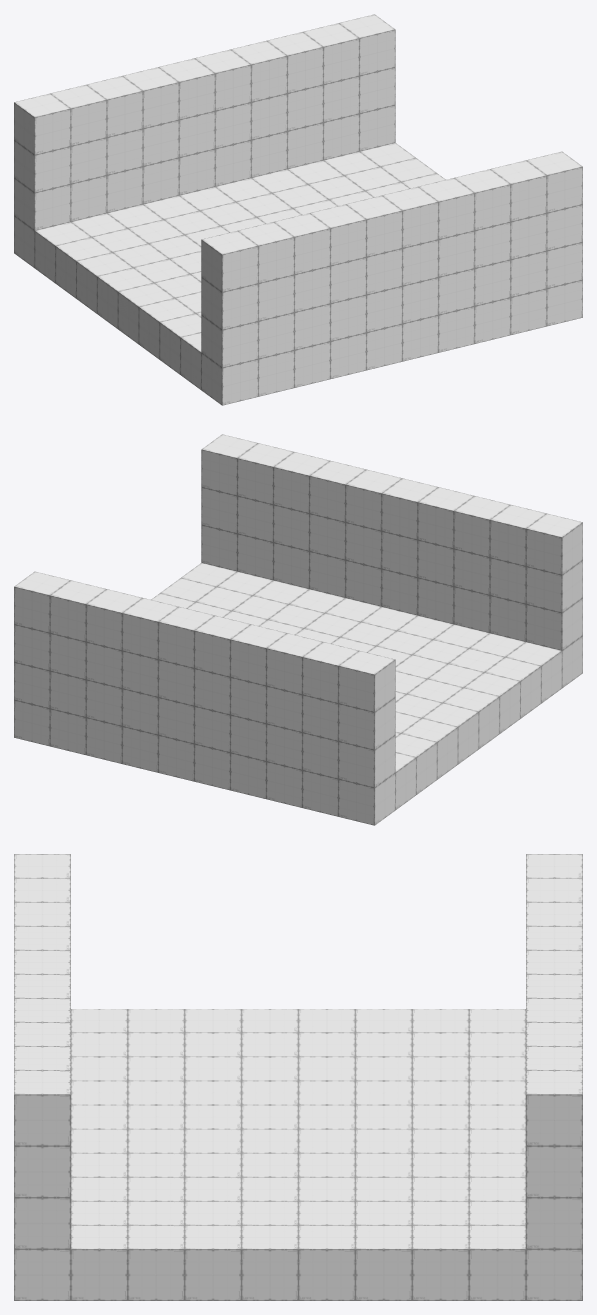
Rendered from ProB_Floor_2Walls_10x10.fbx.
3 renders of one model, top to bottom at view 1: azimuth 30°, elevation 25°; view 2: azimuth 150°, elevation 25°; view 3: azimuth 270°, elevation 25°, orthographic. The views are drawn at different scales.
Visible parts, largest first — view 1: ProB_Floor_2Walls_10x10; view 2: ProB_Floor_2Walls_10x10; view 3: ProB_Floor_2Walls_10x10.
Part boxes in pixels (bbox=[...]): ProB_Floor_2Walls_10x10: bbox=[14, 14, 582, 405]; ProB_Floor_2Walls_10x10: bbox=[14, 434, 582, 825]; ProB_Floor_2Walls_10x10: bbox=[14, 854, 582, 1300].
Bounding box in the file's own units: 1000 × 400 × 1000.
